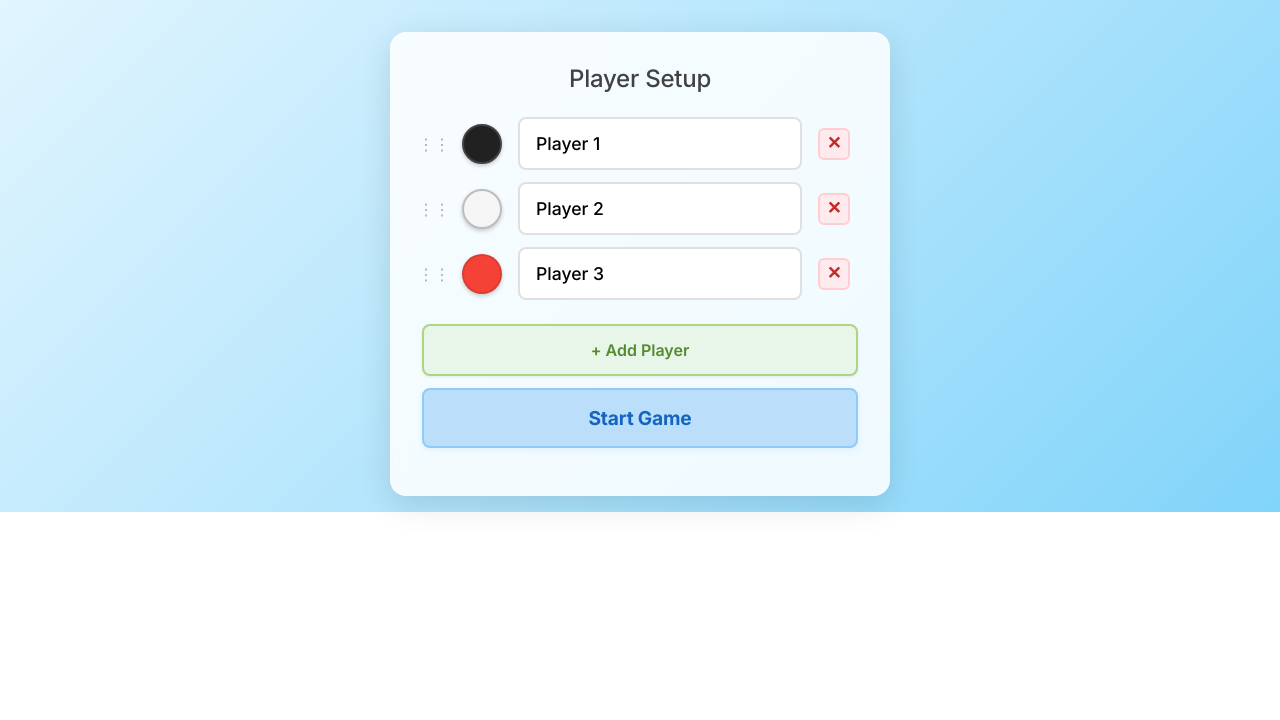
it: PlayerSetup › should allow removing players
Click the button named "remove player" at point(834, 144), box [818,128,850,160]
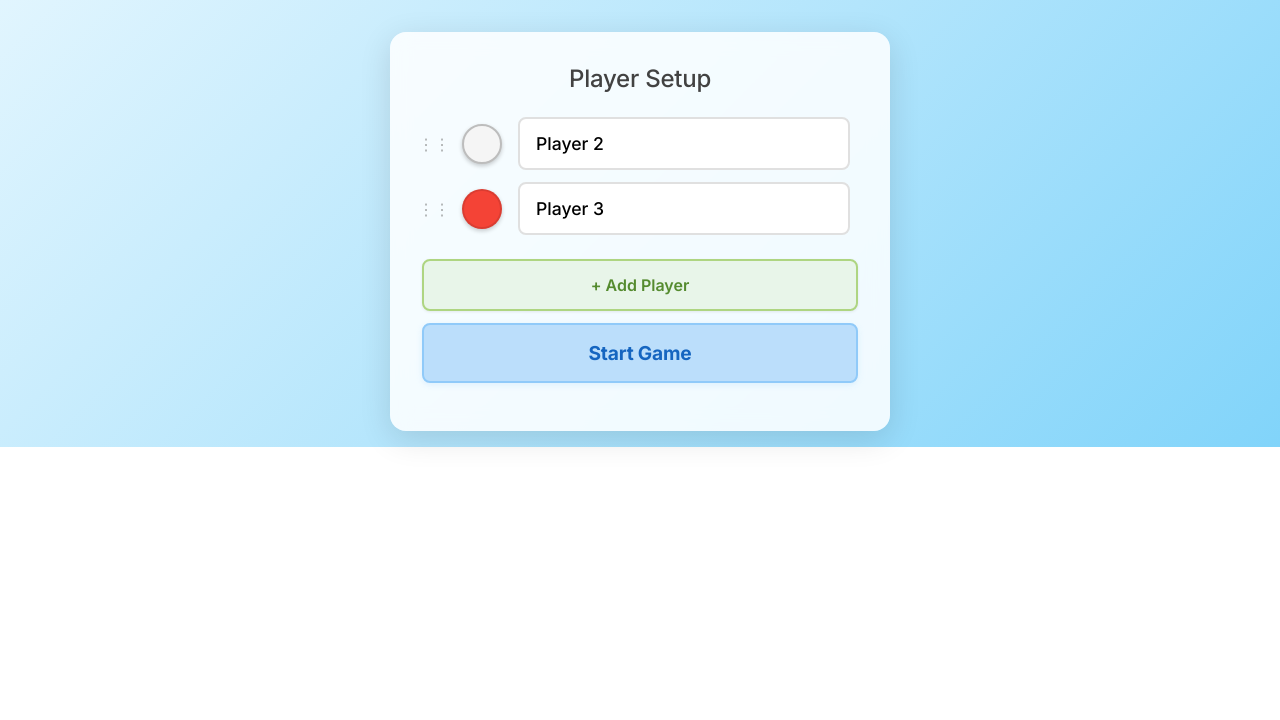
Expected: the number of fields is 2, [518,117,850,170]; [518,182,850,235]
